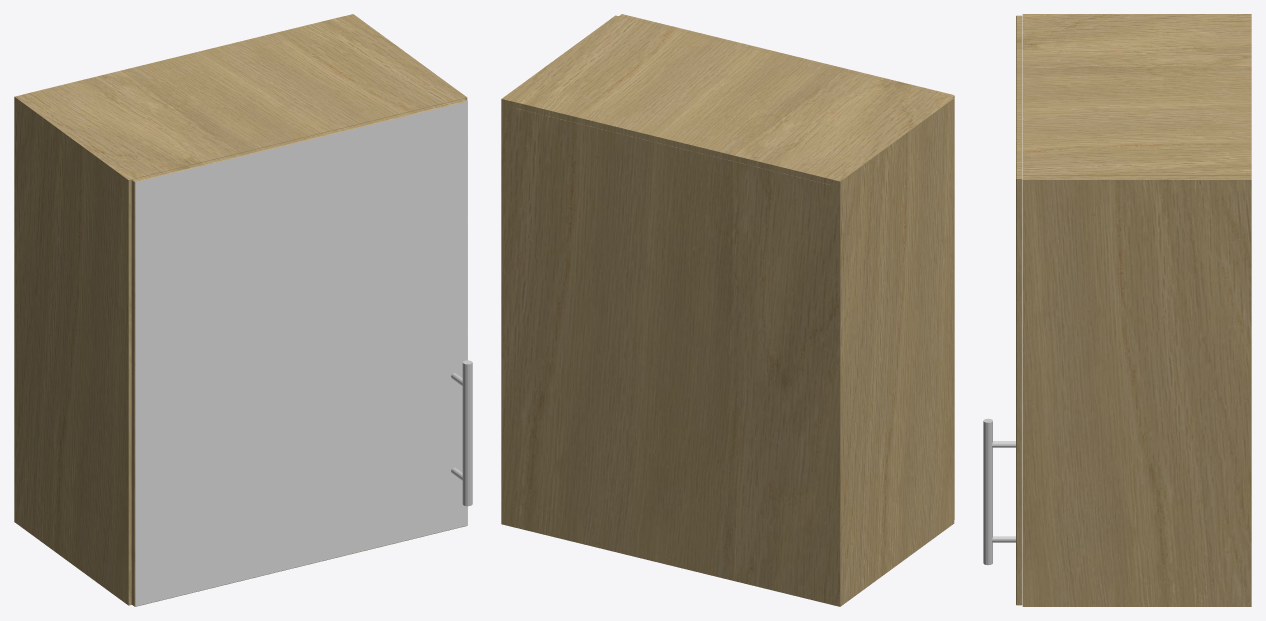
The model's file is sweethome3d-blendswap-cc-0-upper-cabinet.glb.
The picture shows the model from 3 angles, left to right: view 1: azimuth 30°, elevation 25°; view 2: azimuth 150°, elevation 25°; view 3: azimuth 270°, elevation 25°; orthographic projection.
Parts seen in each view (by area): view 1: Cube.006_Cube.007; view 2: Cube.006_Cube.007; view 3: Cube.006_Cube.007.
Boxes of the visible parts, x1,y1,x2,y2 form: Cube.006_Cube.007: (14,14,472,606); Cube.006_Cube.007: (501,14,954,606); Cube.006_Cube.007: (983,14,1251,606).
Bounding box in the file's own units: 60 × 72 × 41.
4 materials, 2 textured.
